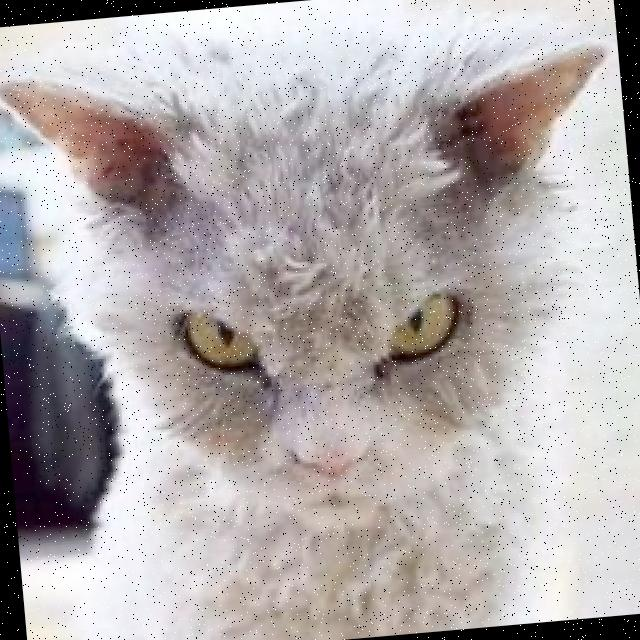Angry: (108, 196, 526, 558)
